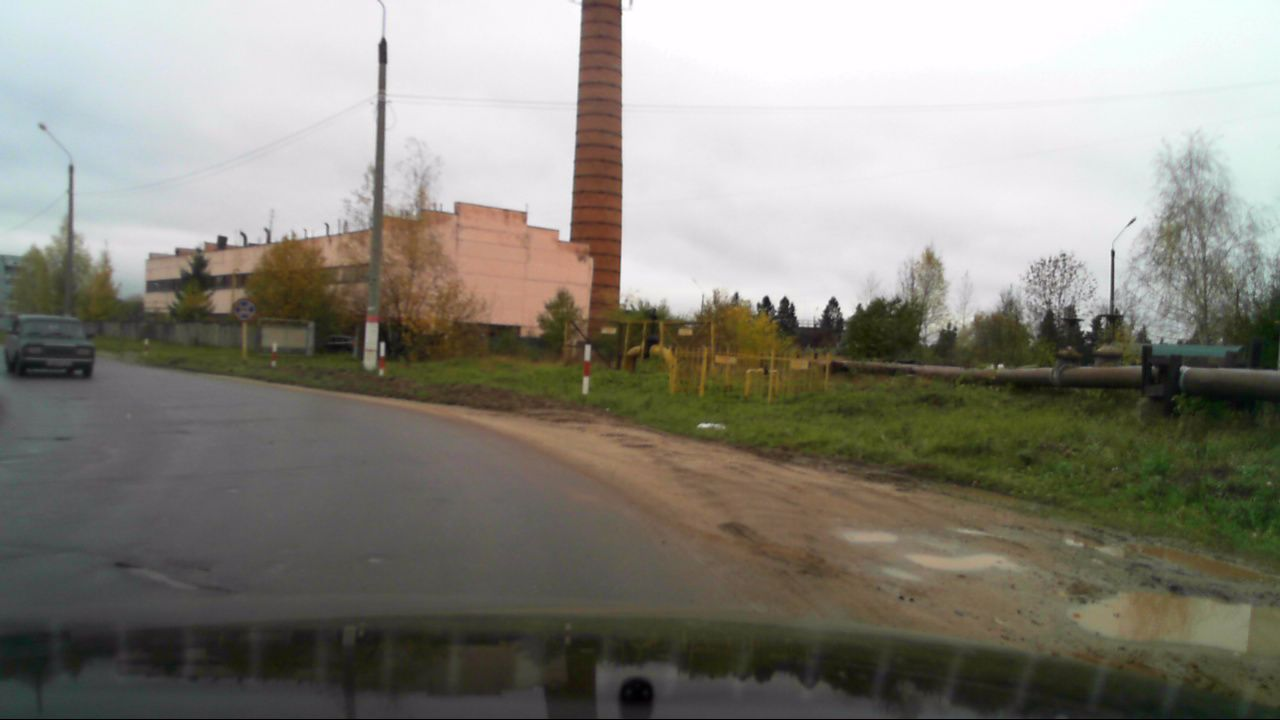No Parking: (232, 298, 257, 321)
